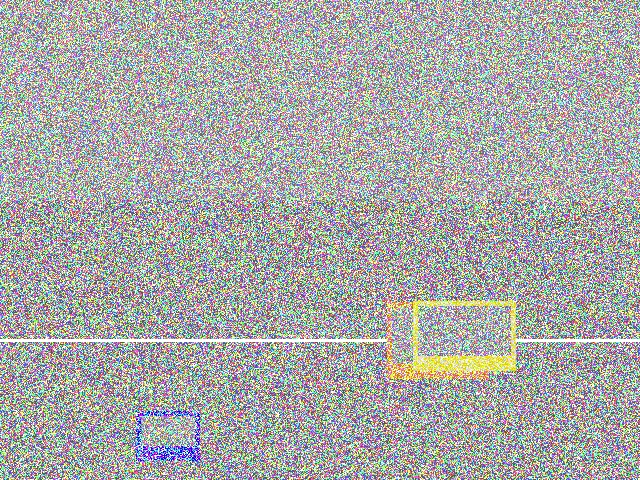motorcycle: (49, 207, 152, 345), (478, 225, 563, 349)
truck: (91, 321, 214, 462)
